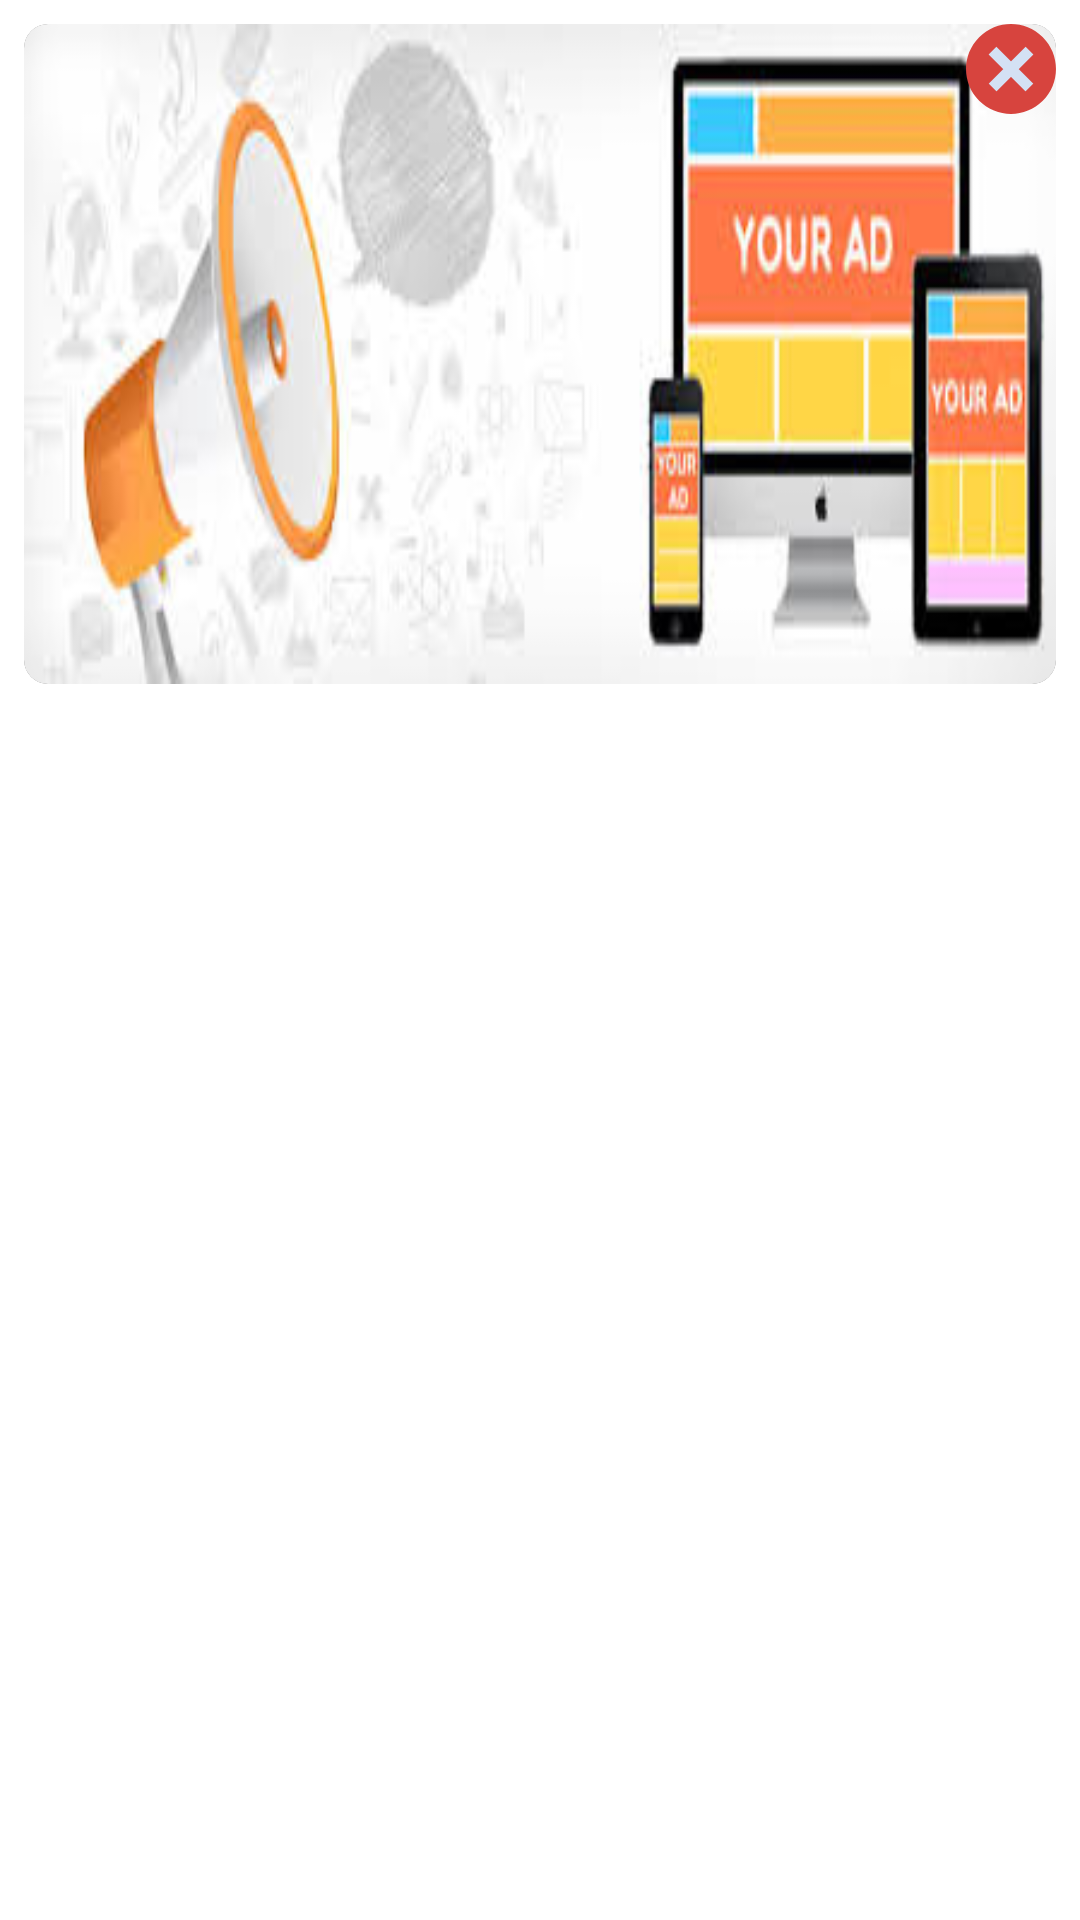

Point at icon controls on the screen. Image size 1080 x 1920, points as [x,y].
close: [1011,69]
